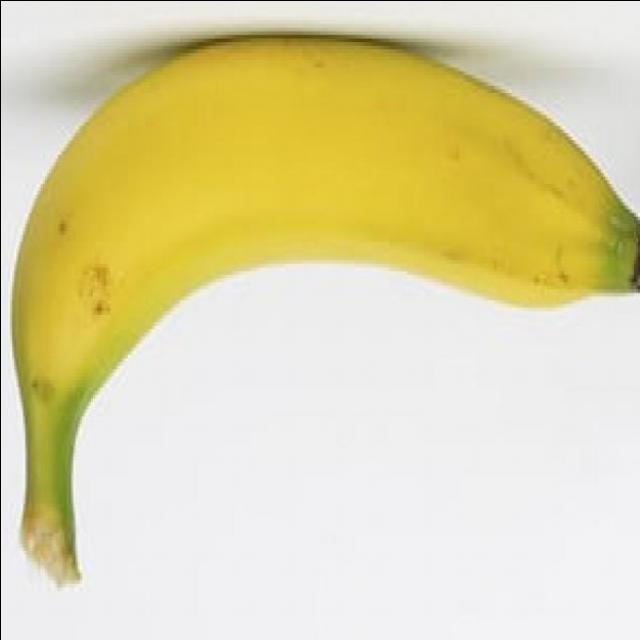banana: (11, 12, 640, 434)
